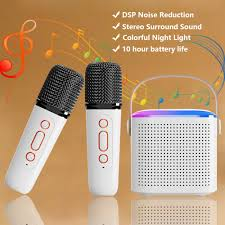microphone: (8, 61, 127, 204)
speaker: (128, 73, 219, 197)
